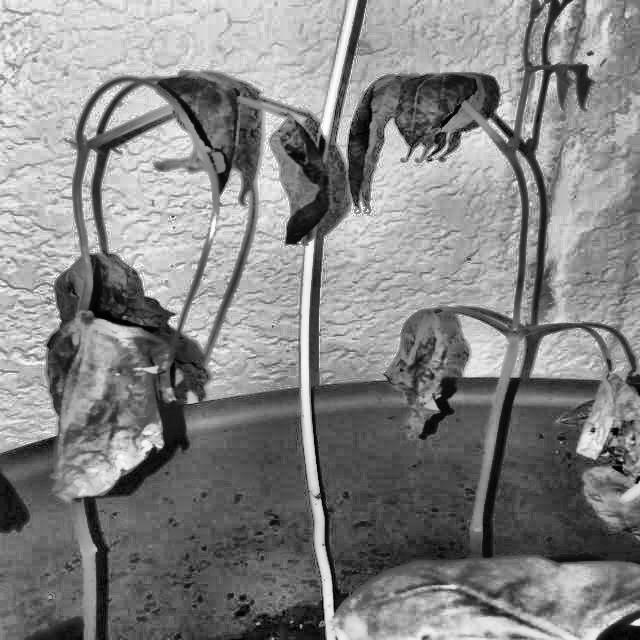plants: (48, 75, 639, 505)
